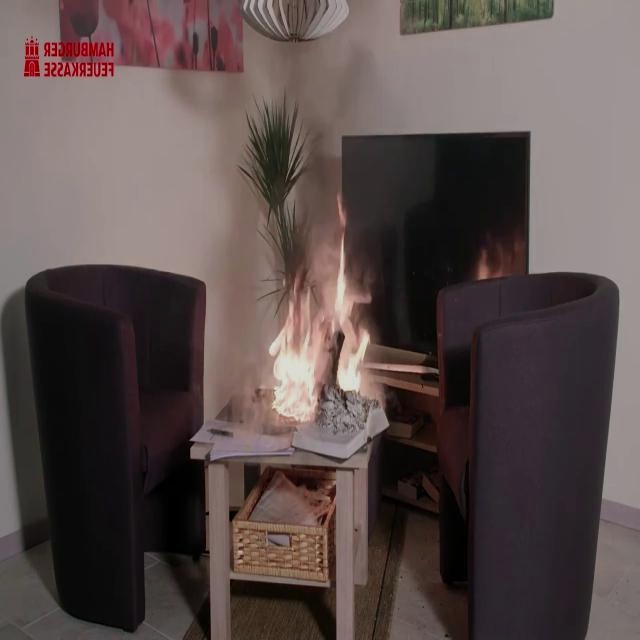fire: (247, 192, 377, 421)
